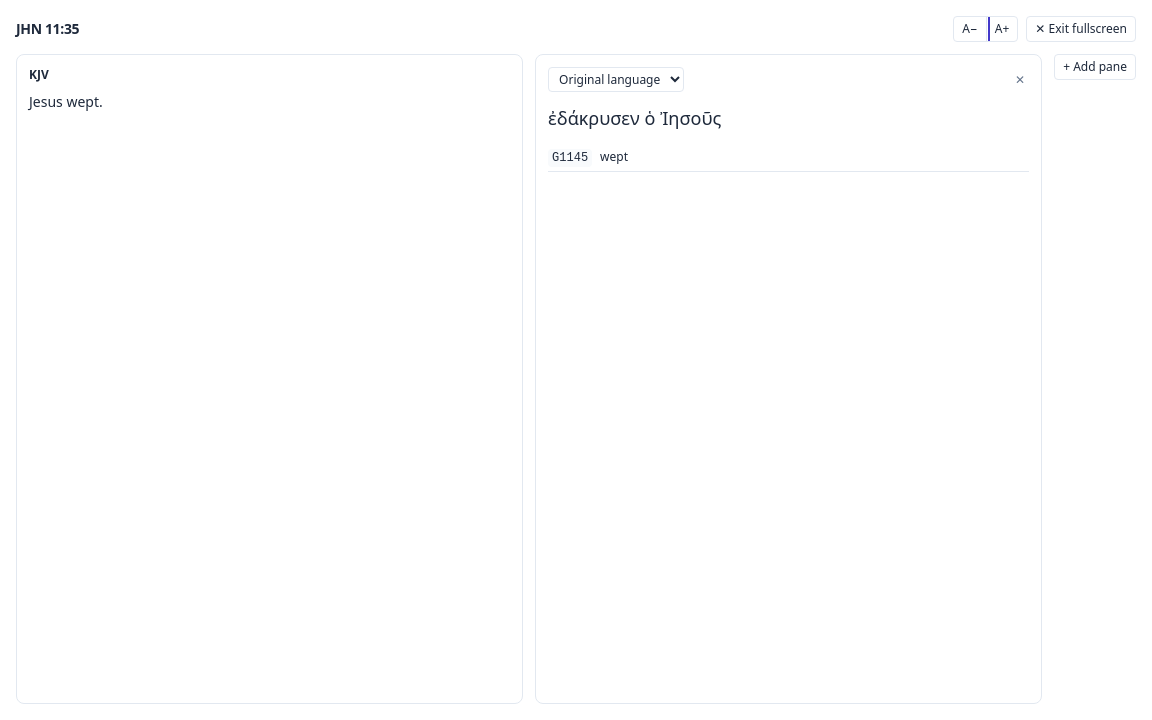
VerseFullscreen › adds a second comparison pane and then hides the add-pane button at three panes total
This screenshot has width=1152, height=720.
Step 1. Click the button "+ Add pane" → {"x": 1095, "y": 67}, box [1054,54,1136,80]
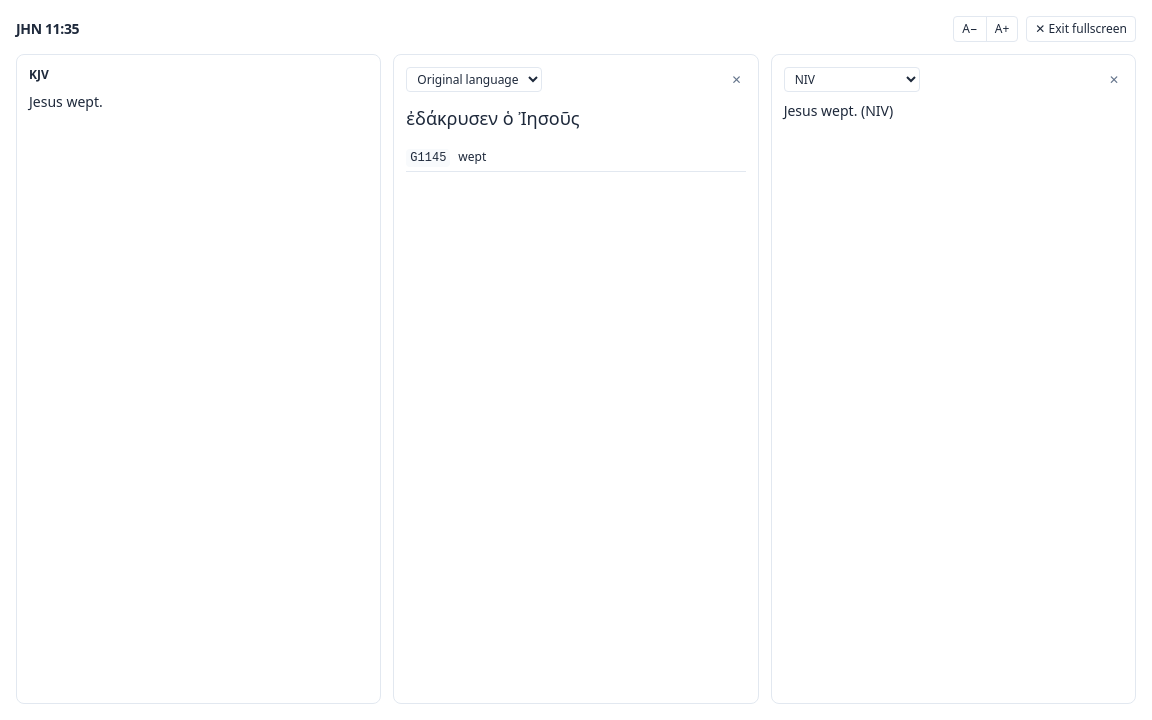
Expected: the dropdown named "pane 1 content" is shown, [406,67,542,92]
Now the dropdown named "pane 2 content" is shown, box [784,67,920,92]
Now the button "Add pane" is gone
